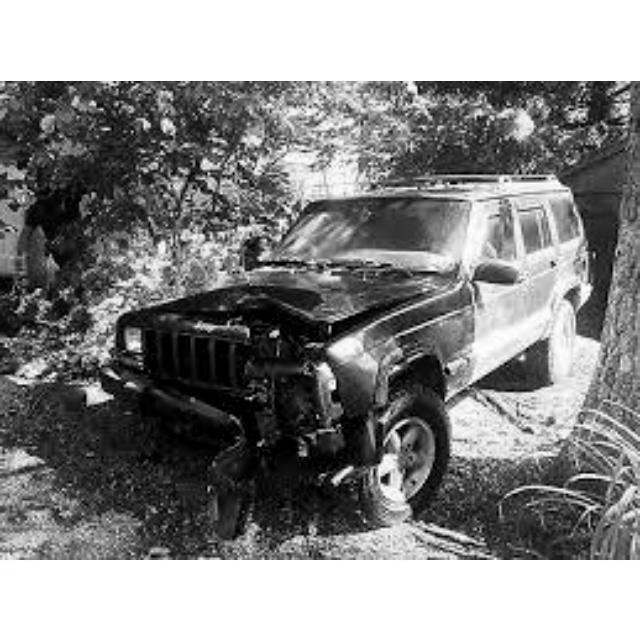bonnet-dent: (174, 253, 381, 327)
front-bumper-dent: (137, 347, 292, 426)
